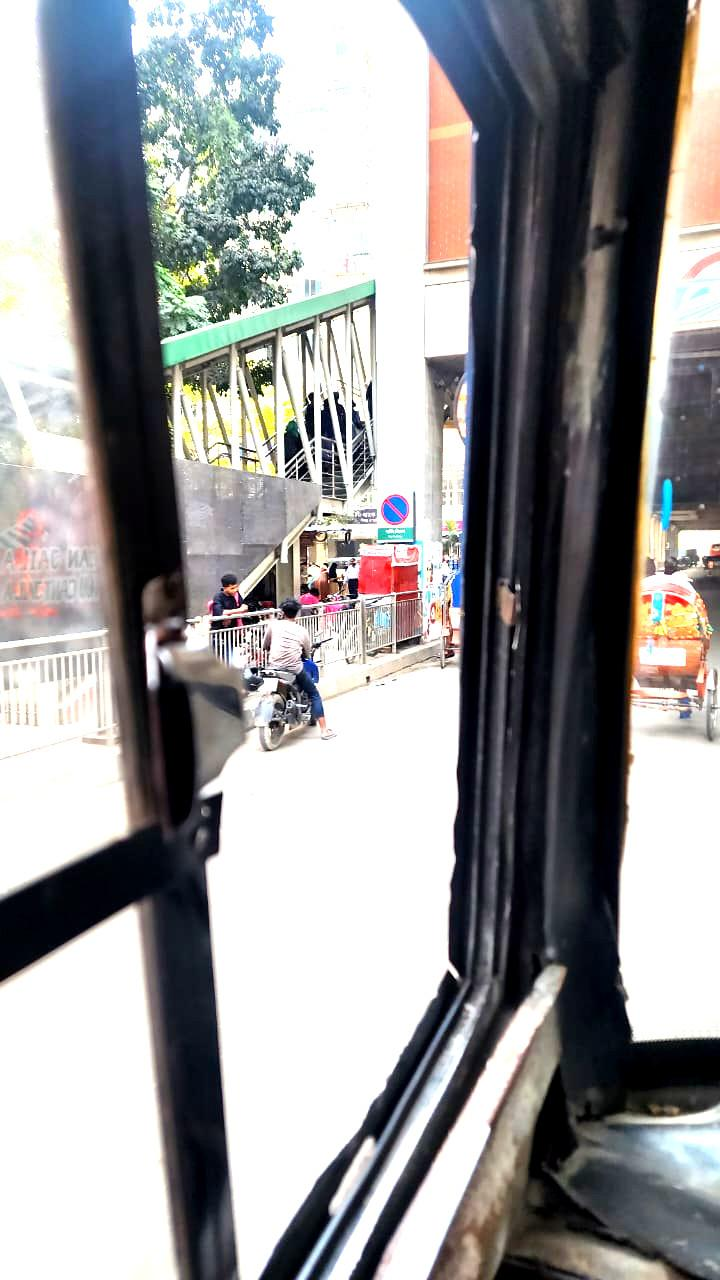No Parking: (374, 491, 416, 542)
